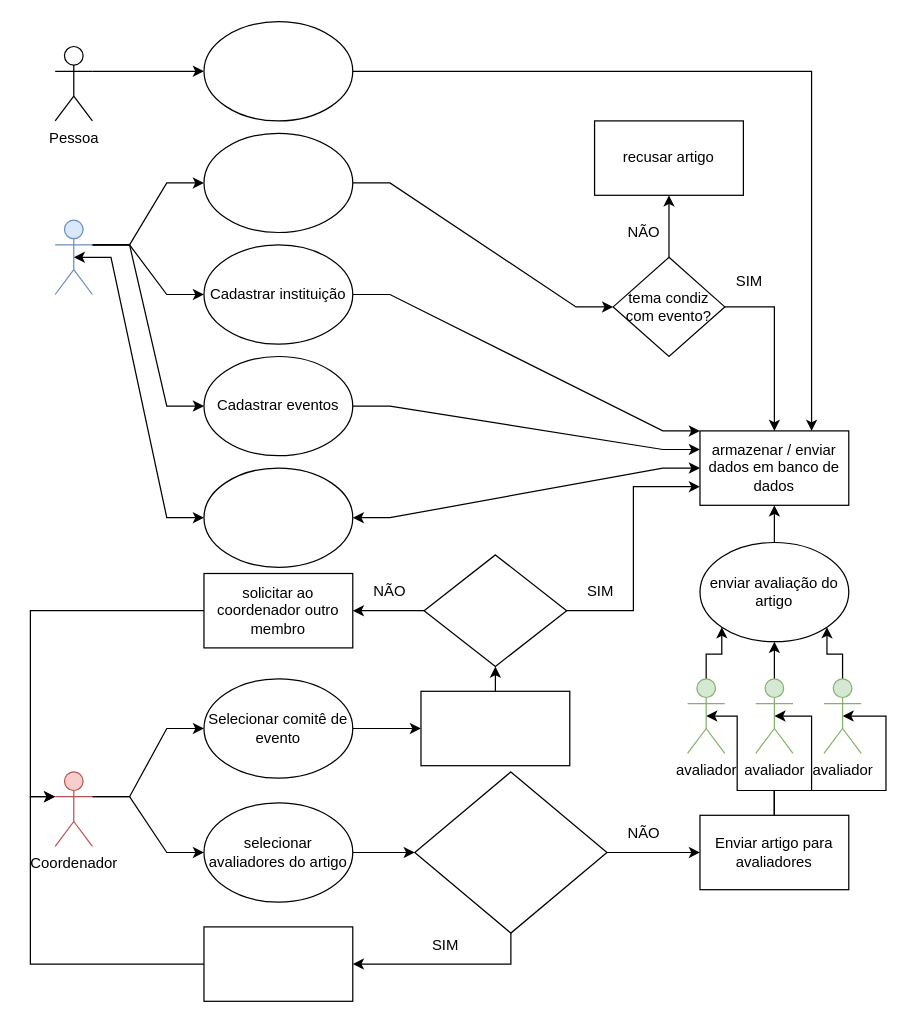
Image size: 918x1023. Some labels were removed from this diagram. The shapes that lost their labels are listed below. From the top down, each one's centre as x and y in pixels, then its label:
(278,70): Registrar-se como membro
(278,182): submeter artigo
(73,256): Membro
(278,517): consiltar dados
(495,610): Confirmação até prazo limite?
(495,728): enviar notificação aos membros selecionados
(510,852): avaliador é autor ou da mesma instituição que o autor?
(278,963): recusar avaliador e solicitar outra recomendação
